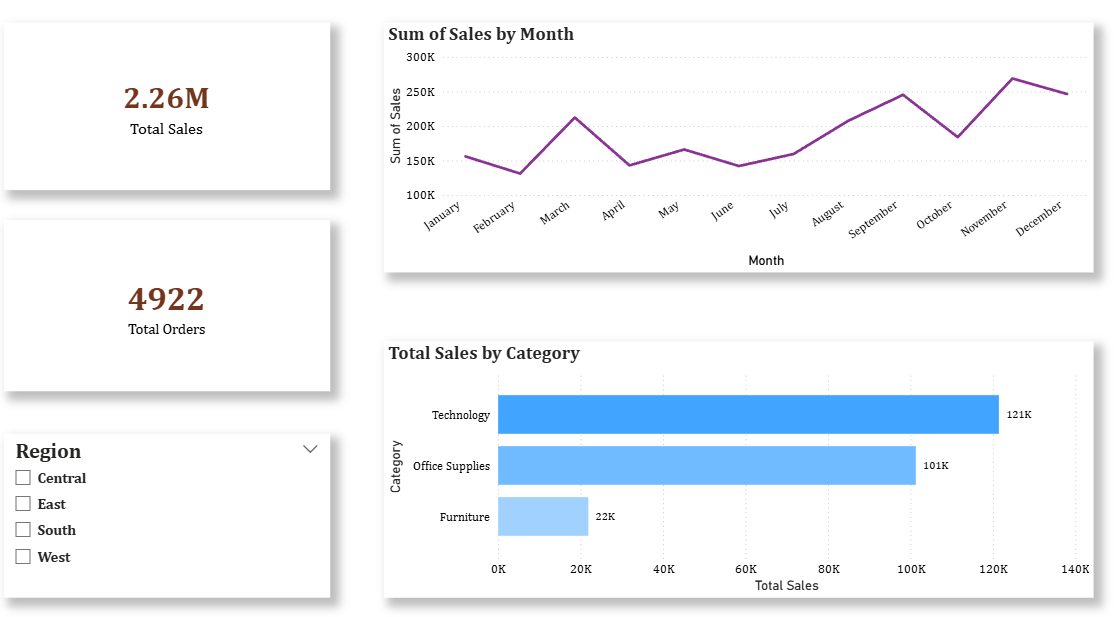

What the dashboard file says about the page in this screenshot:
{"tool":"powerbi","page":{"name":"Page 1","canvas":[1280,720],"ordinal":0},"visuals":[{"type":"card","fields":{"Values":["sales_db sales.Total Sales"]},"box":[26.1,46.7,358.1,183.9],"z":0},{"type":"card","fields":{"Values":["sales_db sales.Total Orders"]},"box":[26.1,263.5,358.1,188],"z":1000},{"type":"lineChart","fields":{"Y":["Sum(sales_db sales.Sales)"],"Category":["sales_db sales.Order_Date.Variation.Date Hierarchy.Month"]},"box":[443.2,46.7,779.4,274.4],"z":2000},{"type":"clusteredBarChart","fields":{"Y":["sales_db sales.Total Sales"],"Category":["sales_db sales.Category"]},"box":[443.2,396.6,779.4,281.3],"z":3000},{"type":"slicer","fields":{"Values":["sales_db sales.Region"]},"box":[26.1,498.1,358.1,179.8],"z":4000}]}

Visuals, with their boxes in screenshot pixels (x1, y1, x2, y2), scaled from the page's 1280x720 canvas onto the 1118x617 screenshot:
card - sales_db sales.Total Sales: box(23, 40, 336, 198)
card - sales_db sales.Total Orders: box(23, 226, 336, 387)
lineChart - Sum(sales_db sales.Sales) x sales_db sales.Order_Date.Variation.Date Hierarchy.Month: box(387, 40, 1068, 275)
clusteredBarChart - sales_db sales.Total Sales x sales_db sales.Category: box(387, 340, 1068, 581)
slicer - sales_db sales.Region: box(23, 427, 336, 581)
